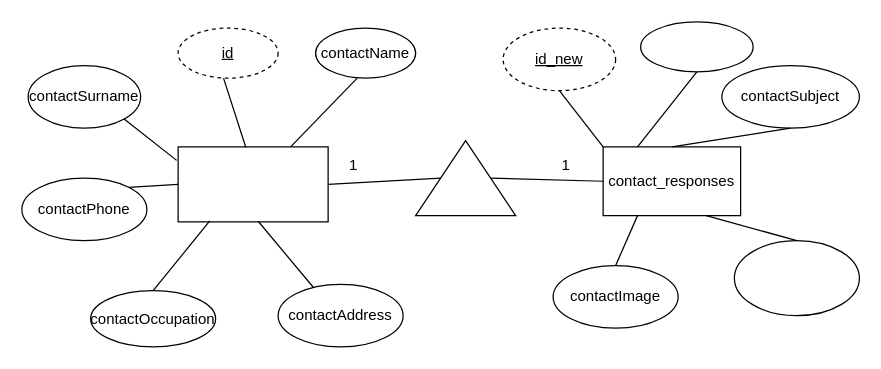
Image size: 881x369. Some labels were removed from this diagram. Each missing label, with the centre of its shape:
contact_infos: (x=252, y=184)
contactEmail: (x=696, y=46)
contactMessage: (x=796, y=277)
has: (x=465, y=177)
